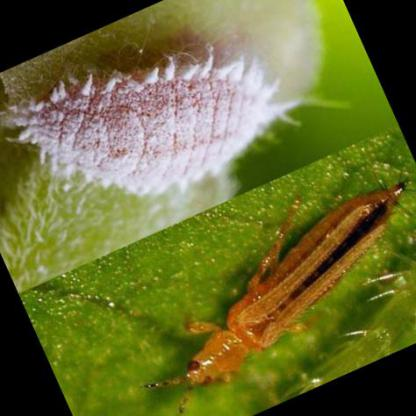mealy bug: (3, 66, 309, 197)
